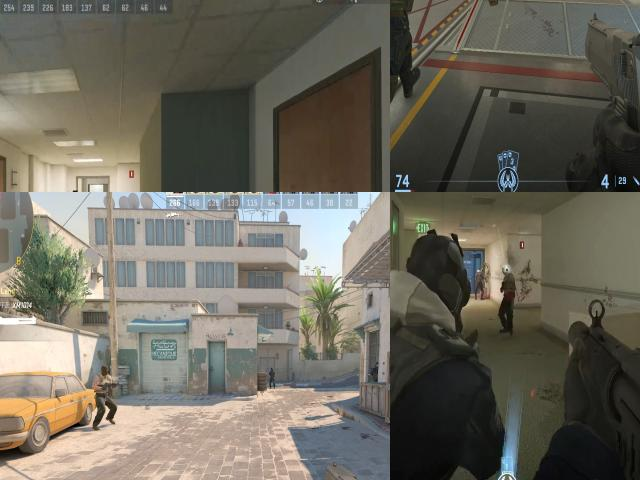Bomb: (486, 0, 498, 8)
CT: (390, 0, 426, 143), (371, 362, 380, 386), (270, 366, 276, 386)
CT-Head: (390, 275, 487, 449), (390, 225, 480, 340), (374, 362, 379, 368), (270, 368, 274, 373)
T: (99, 366, 110, 428)
T-Head: (101, 366, 109, 377)
